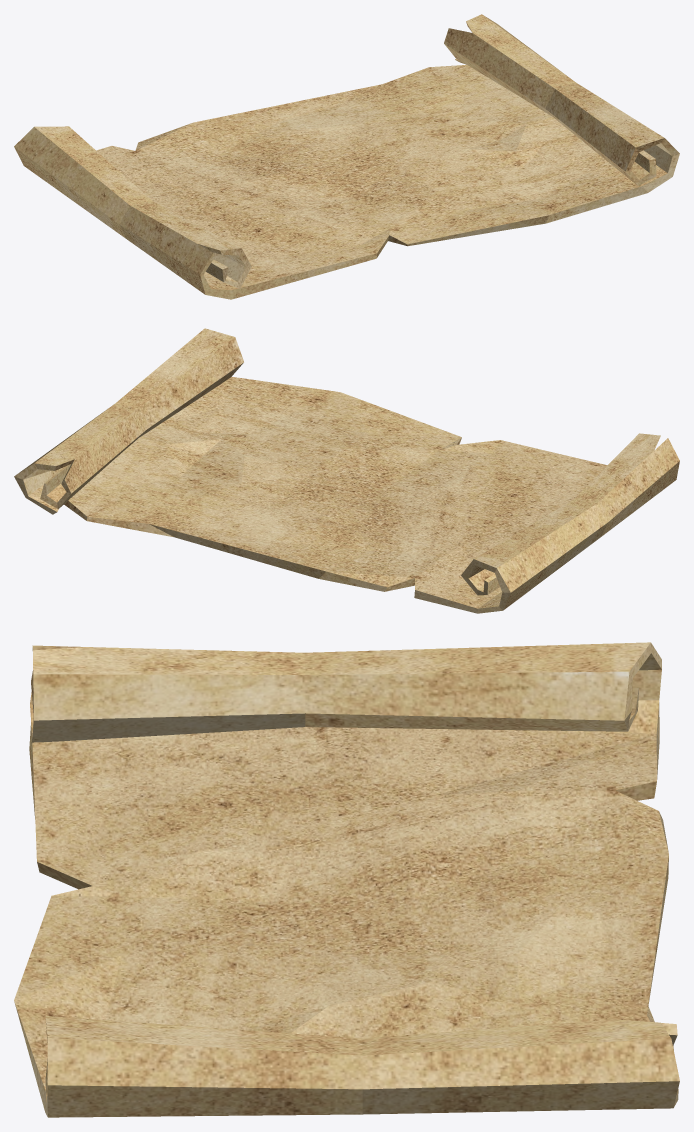
File: Map.fbx
3 renders of one model, top to bottom at view 1: azimuth 30°, elevation 25°; view 2: azimuth 150°, elevation 25°; view 3: azimuth 270°, elevation 25°, orthographic. The views are drawn at different scales.
Parts seen in each view (by area): view 1: Map; view 2: Map; view 3: Map.
Boxes of the visible parts, x1,y1,x2,y2 form: Map: (14,14,679,299); Map: (14,328,679,613); Map: (14,642,679,1117).
Bounding box in the file's own units: 240 × 23.78 × 159.
1 material, 1 textured.
